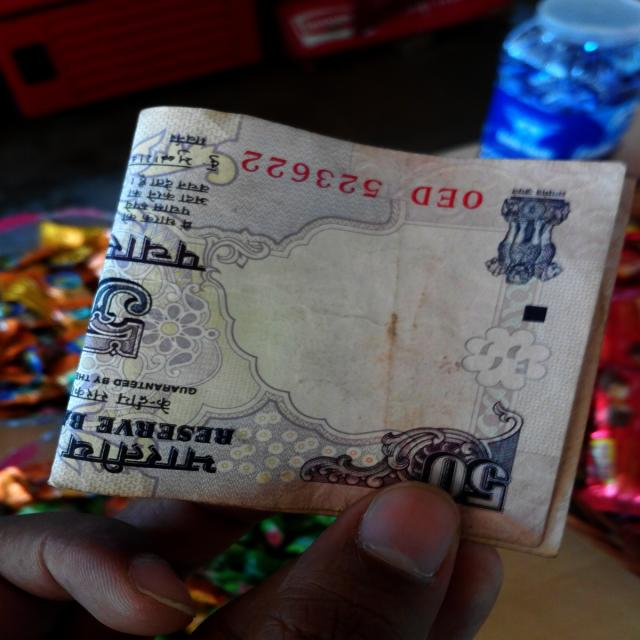50rs: (102, 110, 591, 553)
